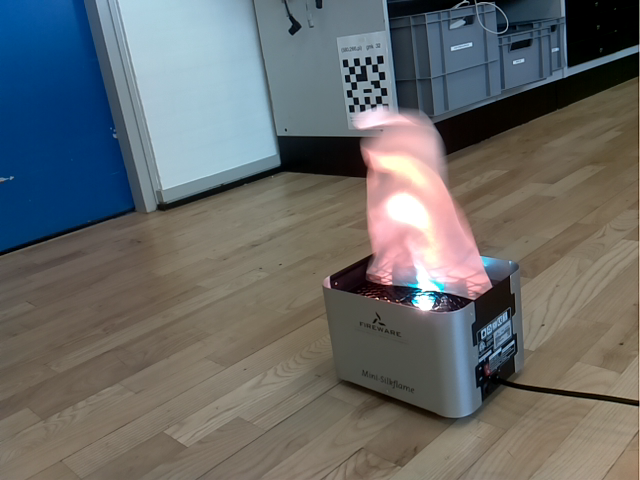fire: (352, 106, 492, 300)
